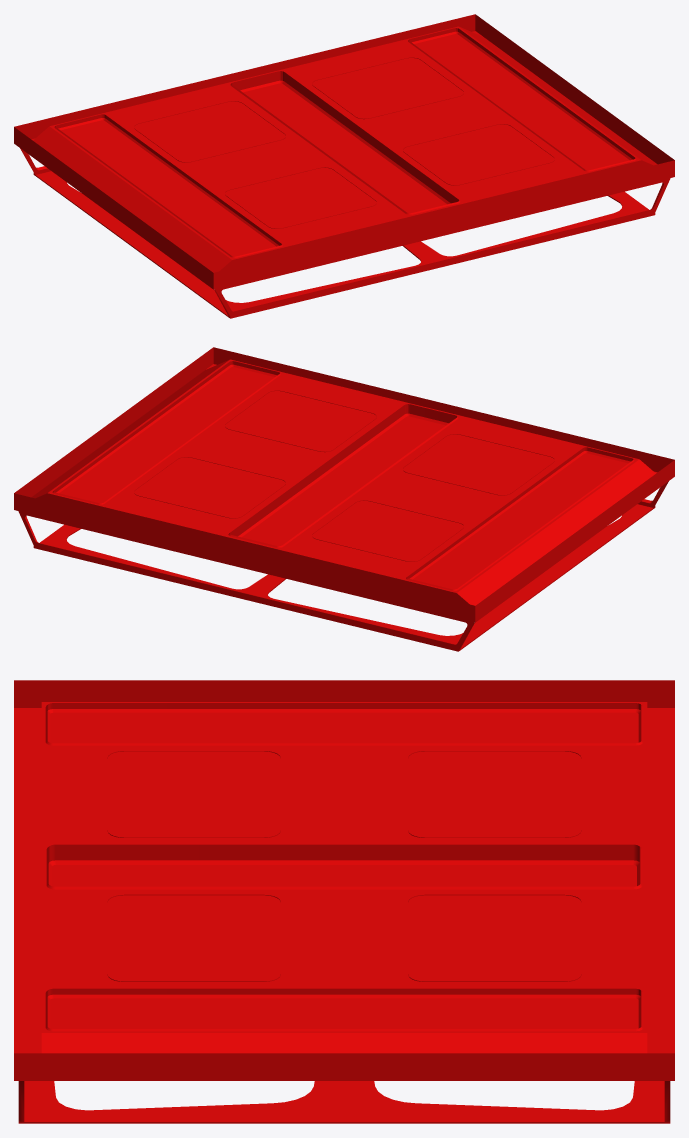
The model's file is Ceiling_4.fbx.
The picture shows the model from 3 angles, top to bottom: view 1: azimuth 30°, elevation 25°; view 2: azimuth 150°, elevation 25°; view 3: azimuth 270°, elevation 25°; orthographic projection. The views are drawn at different scales.
Parts seen in each view (by area): view 1: polySurface2191; view 2: polySurface2191; view 3: polySurface2191.
Part boxes in pixels (x1=…): polySurface2191: x1=14, y1=14, x2=674, y2=318; polySurface2191: x1=14, y1=347, x2=674, y2=651; polySurface2191: x1=14, y1=680, x2=674, y2=1123.
Size of the model in its own units: 377 by 41.16 by 282.
